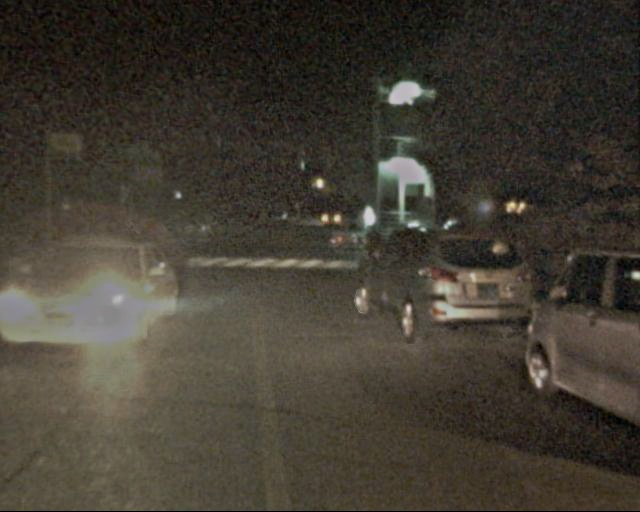person: (361, 226, 384, 281), (124, 218, 143, 264)
